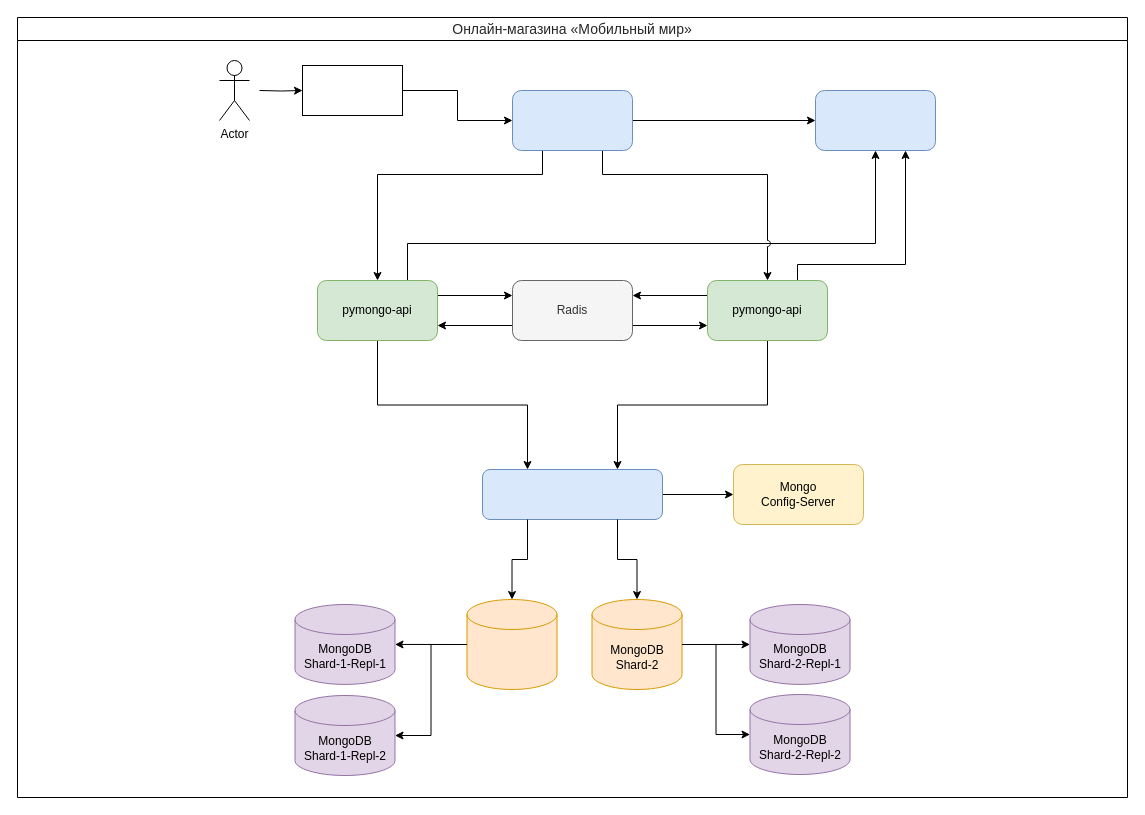
Image size: 1145x815. Some labels were removed from this diagram. Each missing label, with the centre of its shape:
"APISIX Gateway" belongs at (572,120).
"Consul" belongs at (875,120).
"Frontend" belongs at (352,90).
"Mongo Router" belongs at (572,494).
"MongoDB Shard-1" belongs at (511,644).
